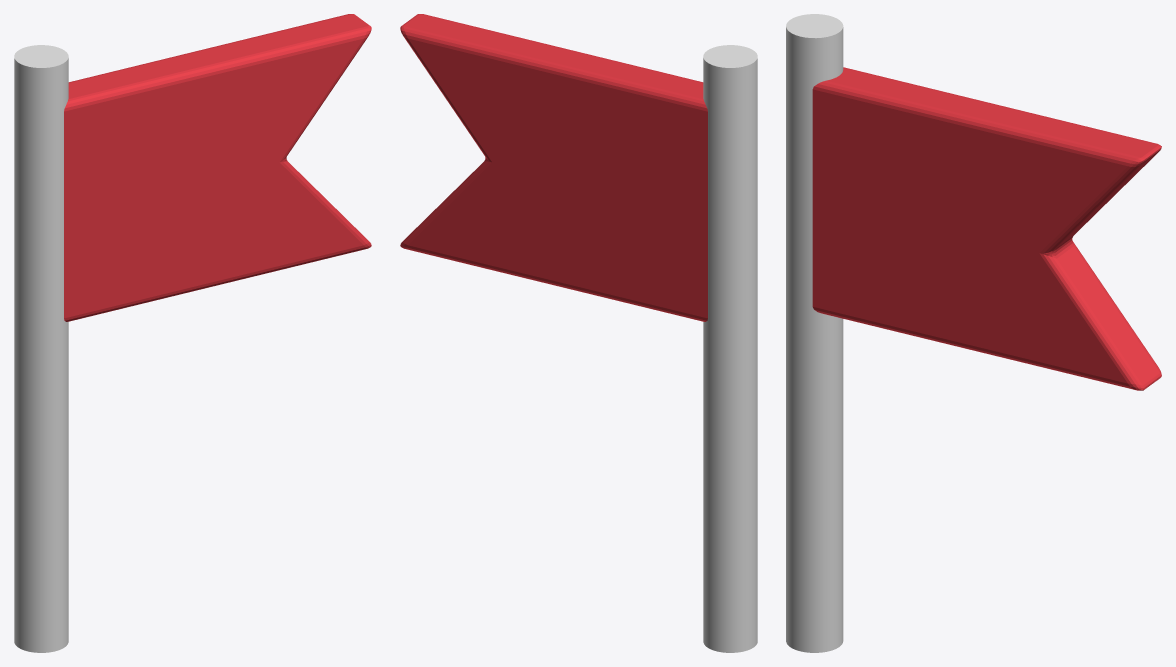
File: flag.glb
3 renders of one model, left to right at view 1: azimuth 30°, elevation 25°; view 2: azimuth 150°, elevation 25°; view 3: azimuth 330°, elevation 25°, orthographic. The views are drawn at different scales.
Visible parts, largest first — view 1: Plane, Cylinder; view 2: Plane, Cylinder; view 3: Plane, Cylinder.
Boxes of the visible parts, x1=… form: Plane: x1=64, y1=14, x2=371, y2=321; Cylinder: x1=14, y1=45, x2=68, y2=652; Plane: x1=400, y1=14, x2=707, y2=321; Cylinder: x1=703, y1=45, x2=757, y2=652; Plane: x1=812, y1=67, x2=1161, y2=390; Cylinder: x1=786, y1=14, x2=843, y2=652.
Size of the model in its own units: 2.45 by 3.96 by 0.3347.
